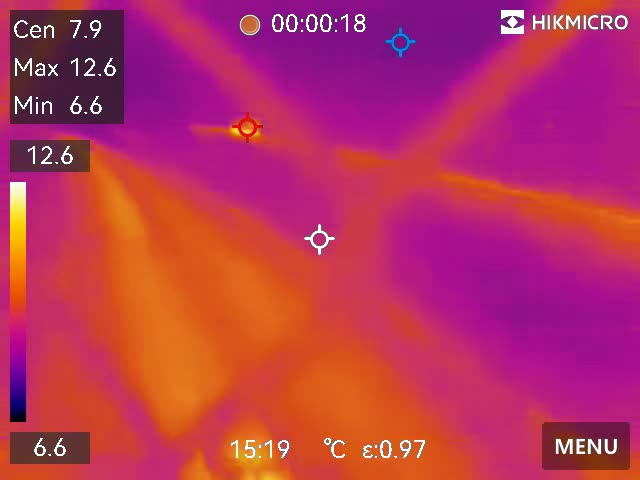vehicle: (230, 116, 264, 139)
